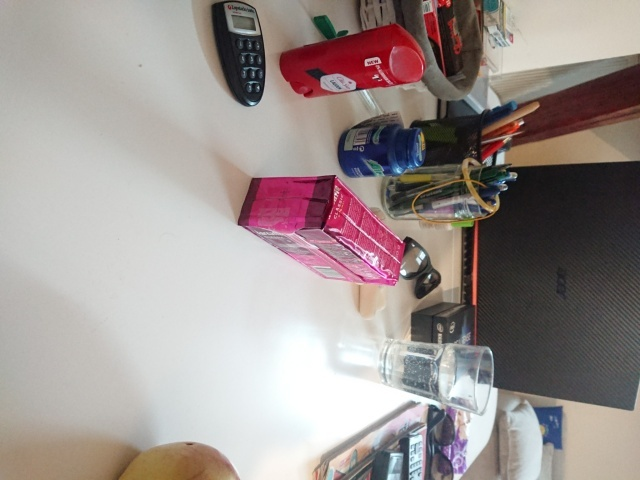Barcaffe Classic Original 225g: (234, 173, 408, 288)
